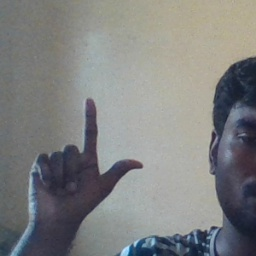L: (25, 95, 147, 221)
